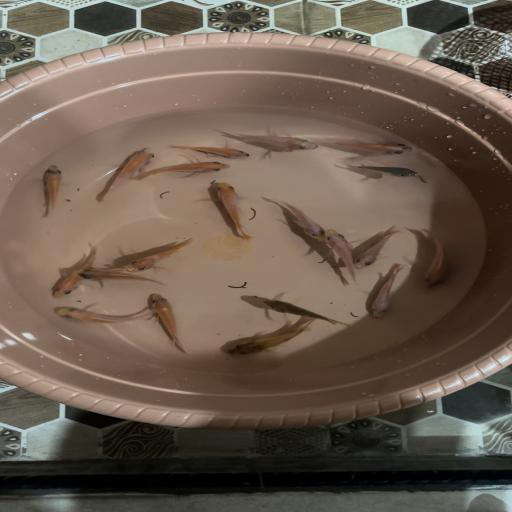nila: (222, 314, 318, 359), (93, 146, 159, 205), (257, 296, 361, 332), (203, 180, 264, 241), (141, 291, 197, 357), (45, 241, 105, 301), (122, 235, 199, 277), (413, 228, 459, 292), (268, 196, 331, 242), (222, 126, 322, 154), (364, 262, 408, 323), (52, 301, 159, 326), (320, 226, 363, 284), (133, 160, 236, 184), (355, 224, 405, 272), (310, 137, 426, 157), (334, 161, 429, 182), (73, 268, 172, 288), (164, 140, 258, 161), (36, 163, 68, 219)
